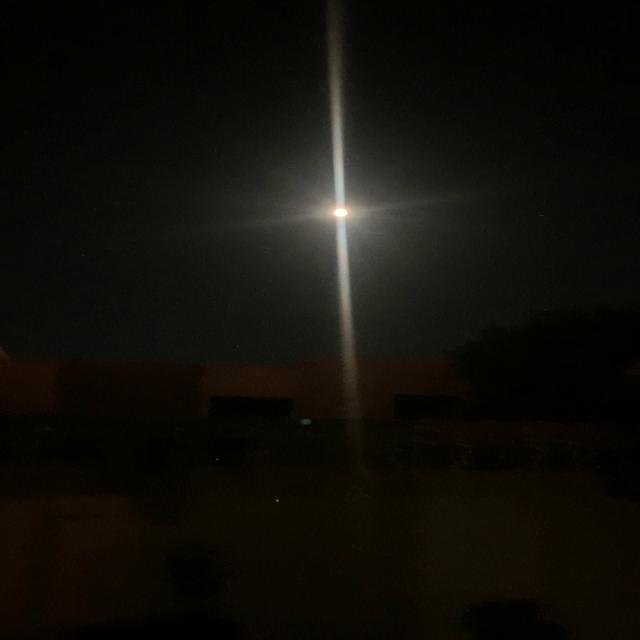moon: (321, 201, 366, 228)
